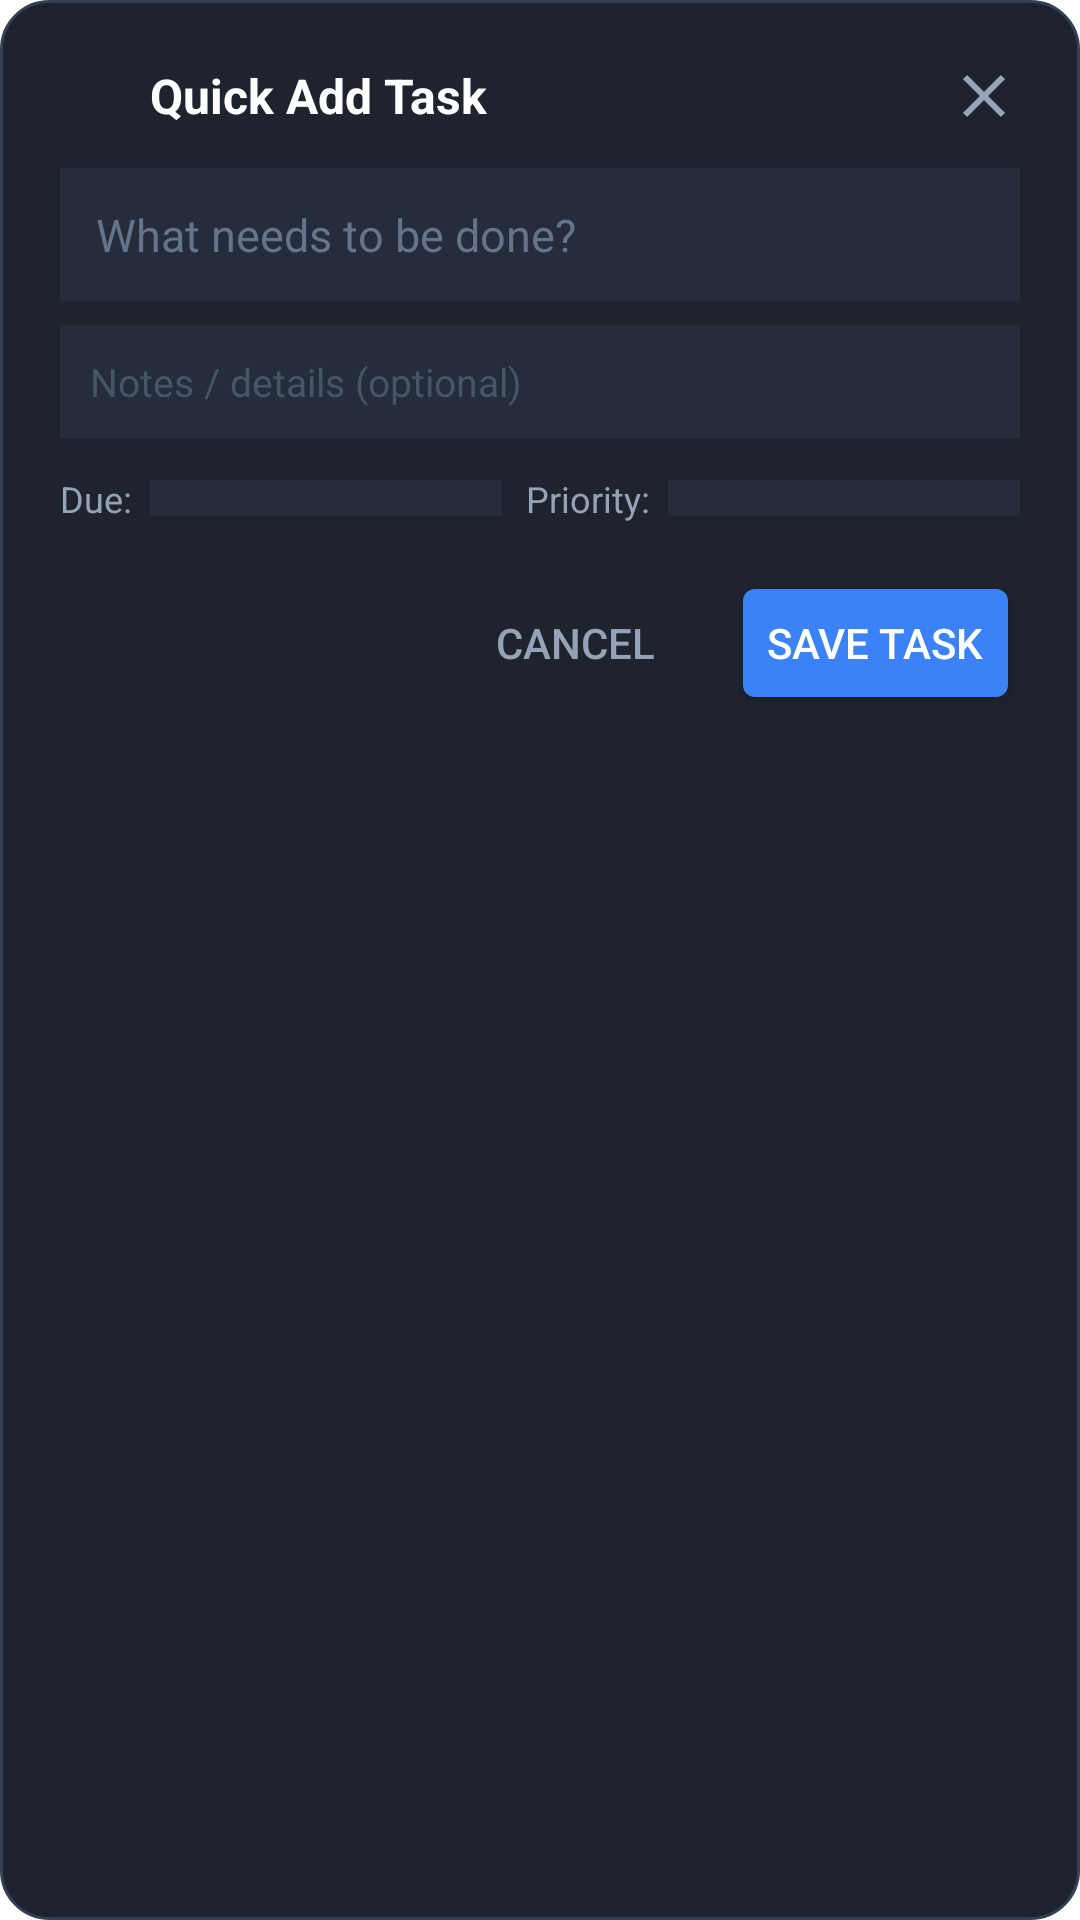

Point at icon controls on the screen. Image size 1080x1920, points as (x=x, y=y).
Close: (x=984, y=96)
